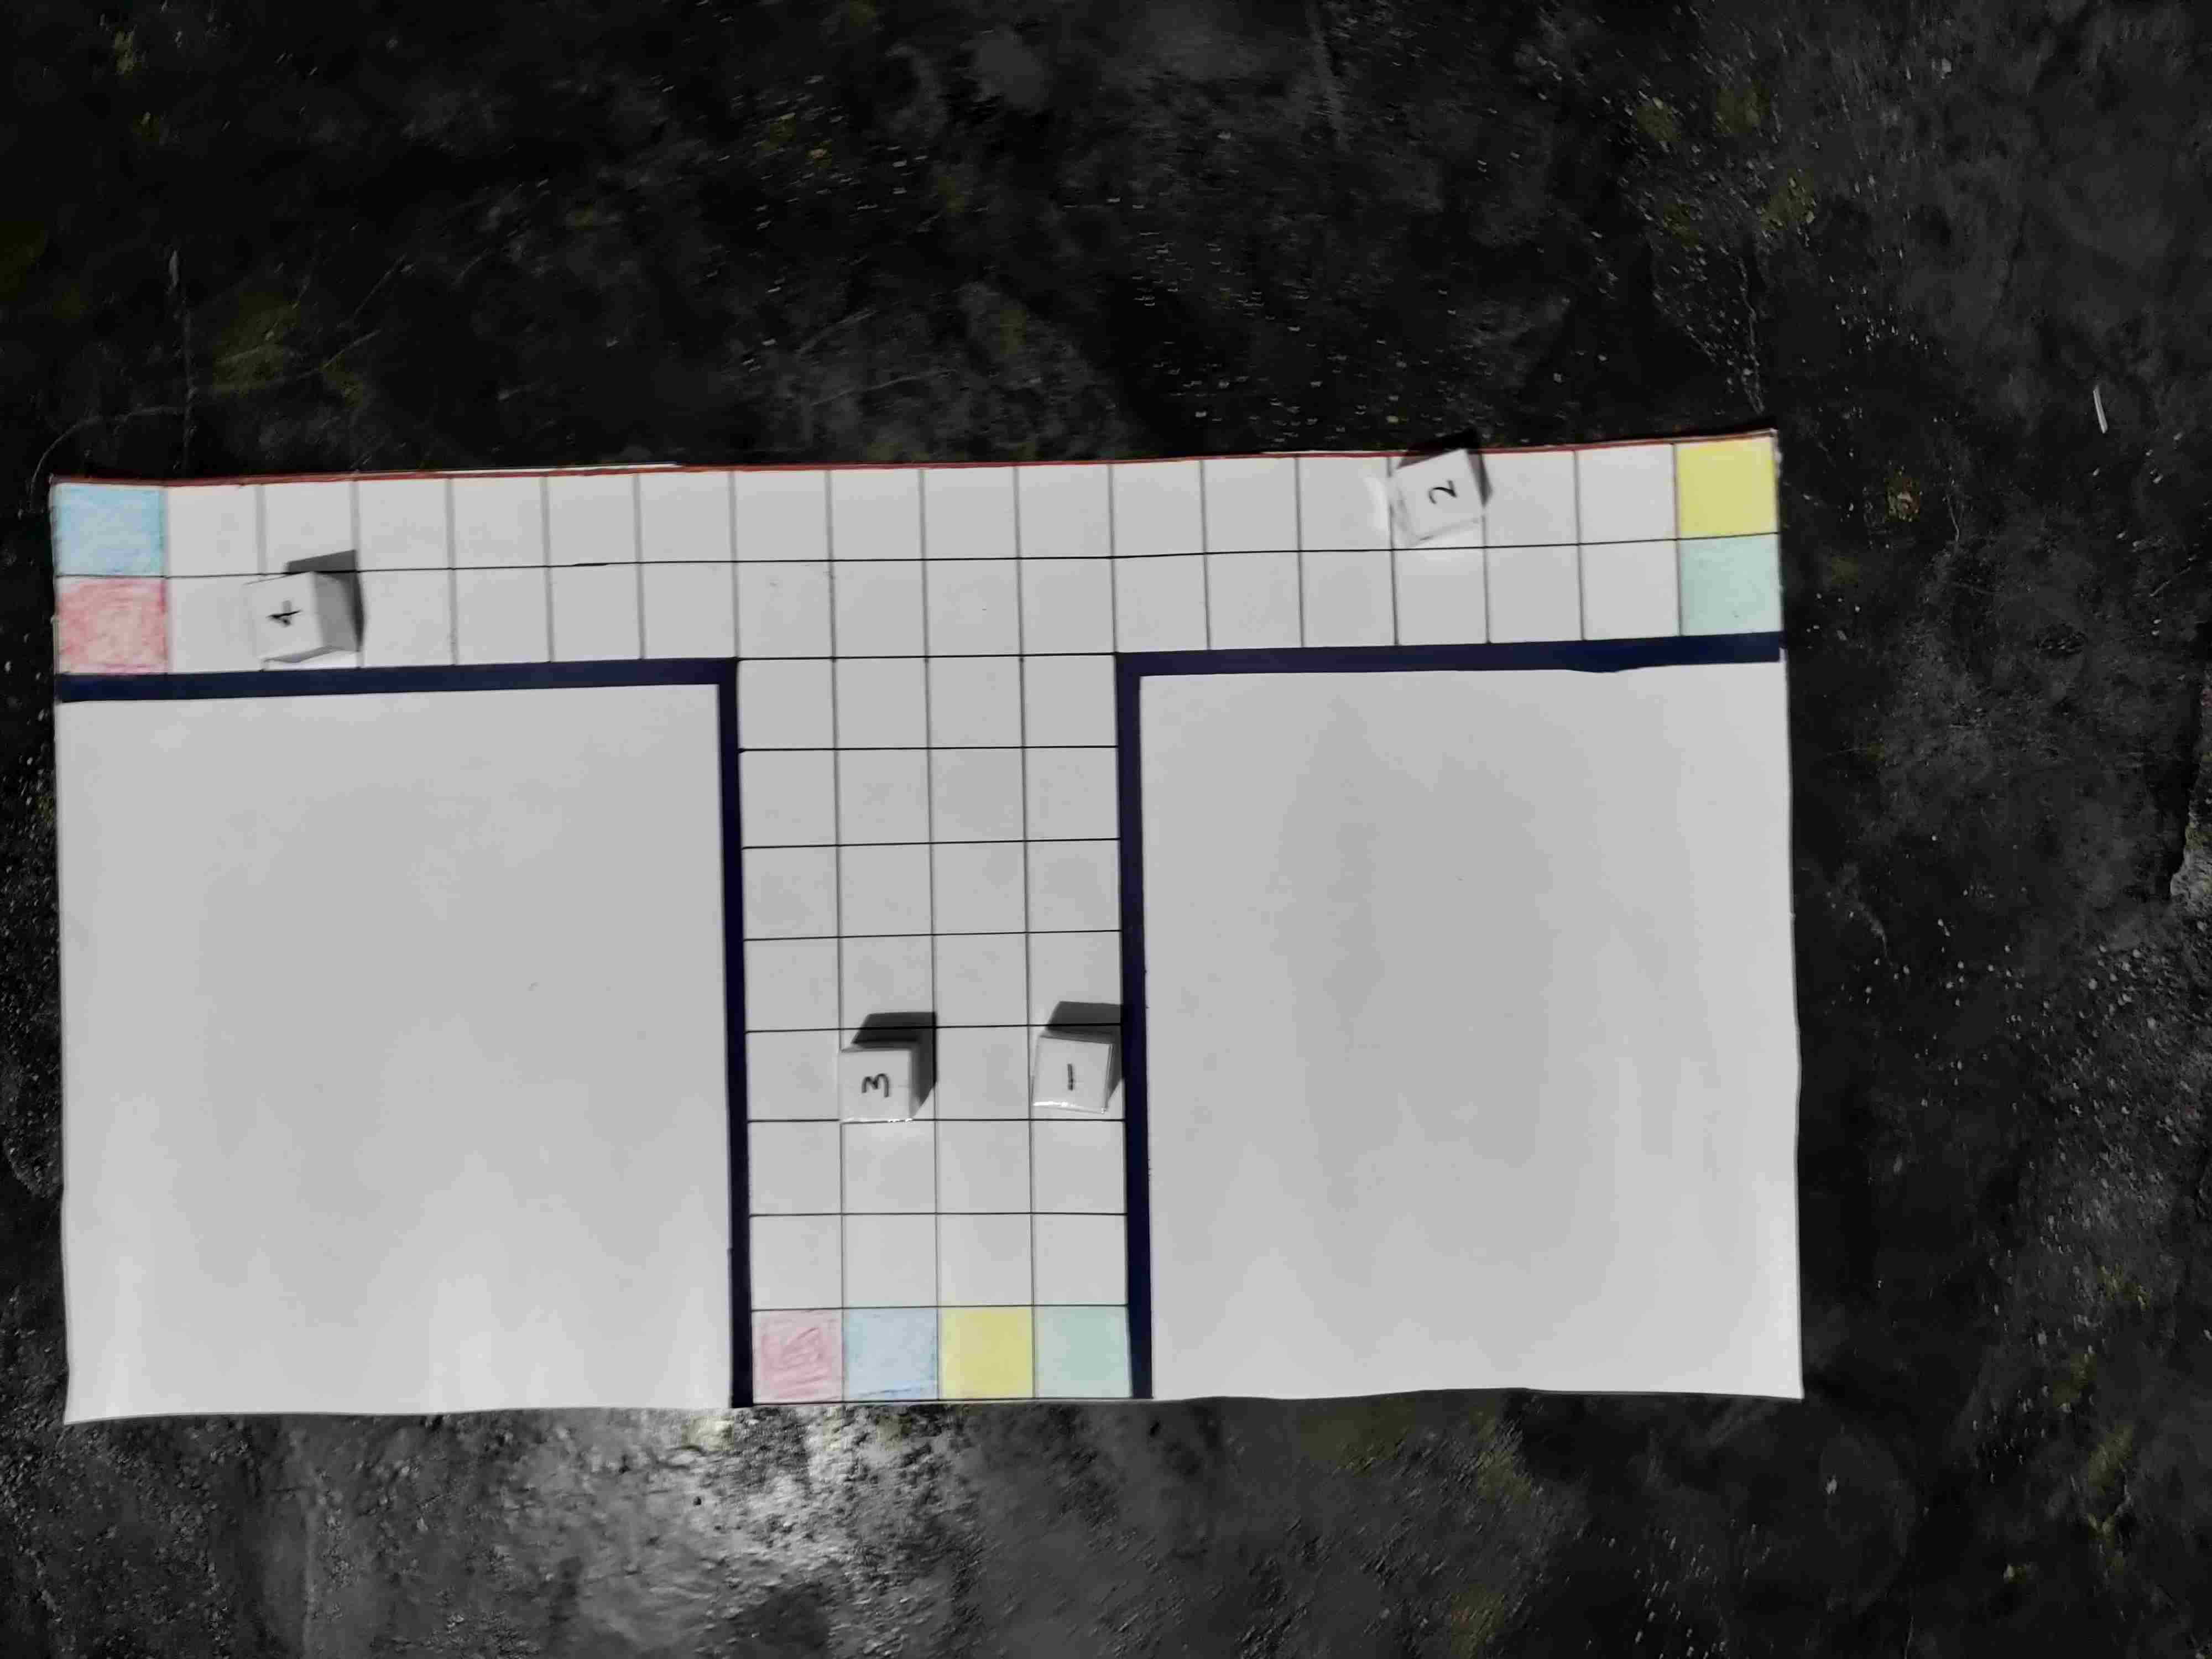arena: (40, 437, 1784, 1406)
bot: (1392, 444, 1489, 535), (1036, 1030, 1111, 1114), (246, 579, 324, 655), (843, 1042, 914, 1124)
